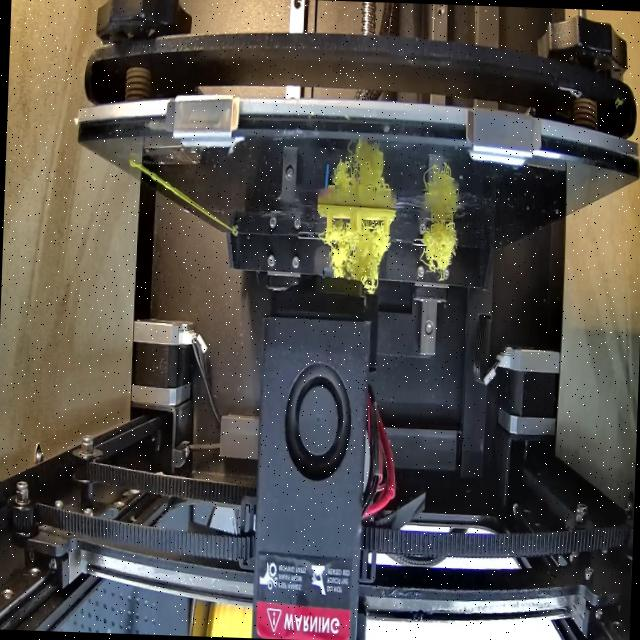spaghetti: (324, 220, 394, 289), (414, 216, 458, 274)
